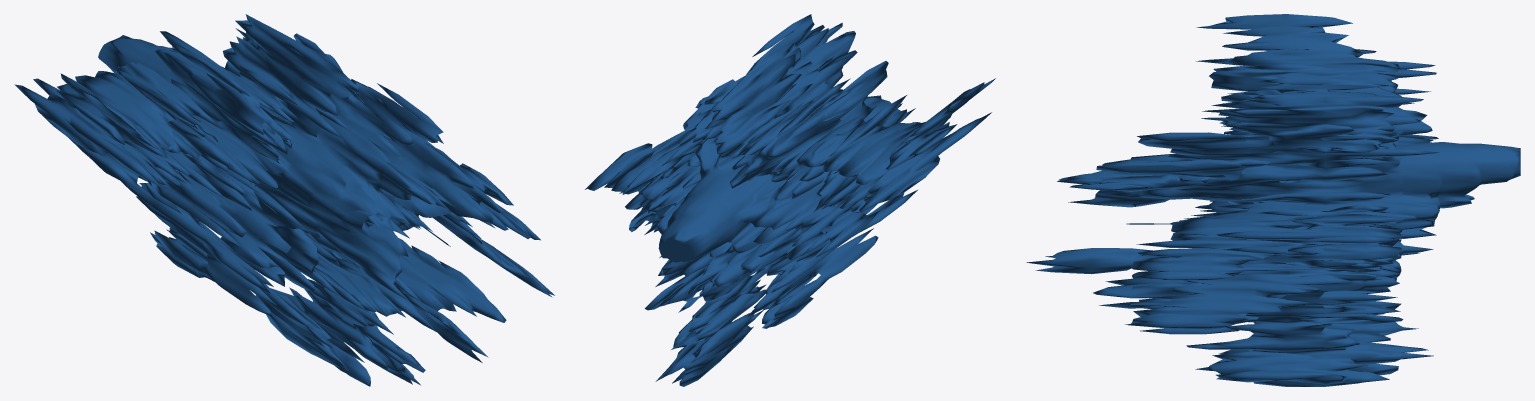
Rendered from 3DPX-011791.glb.
3 renders of one model, left to right at view 1: azimuth 30°, elevation 25°; view 2: azimuth 150°, elevation 25°; view 3: azimuth 270°, elevation 25°, orthographic. The views are drawn at different scales.
Visible parts, largest first — view 1: surface; view 2: surface; view 3: surface.
Part boxes in pixels (x1,y1,x2,y2): surface: (14, 14, 554, 386); surface: (585, 14, 995, 386); surface: (1026, 14, 1520, 386).
Size of the model in its own units: 139 by 124 by 203.
